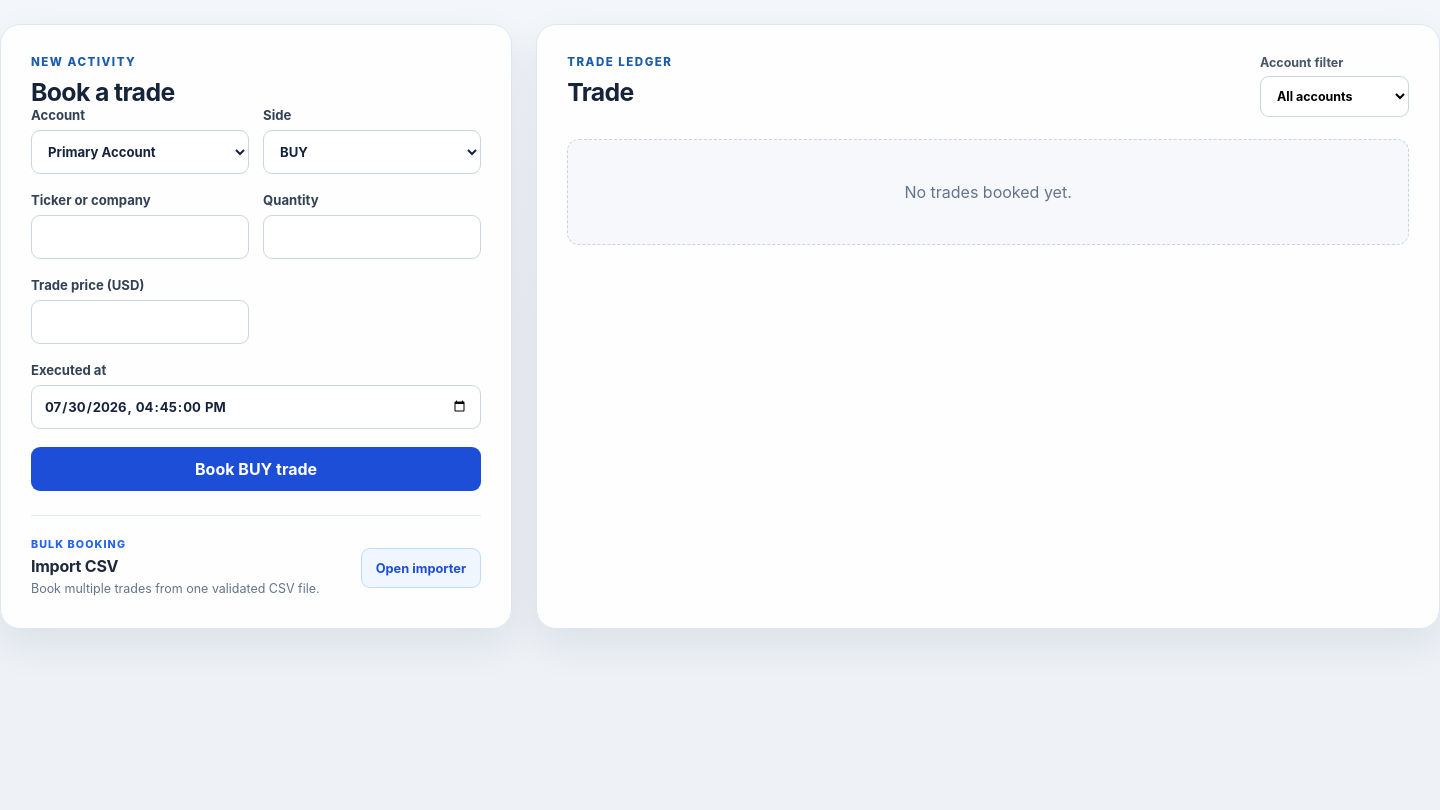
Test: multi-account activity › shows an oversell 409 next to quantity
Check: the text "No trades booked yet." is shown, box [567, 139, 1409, 245]
Select "SELL" in the dropdown labelled "Side" at (372, 152), box [263, 130, 481, 174]
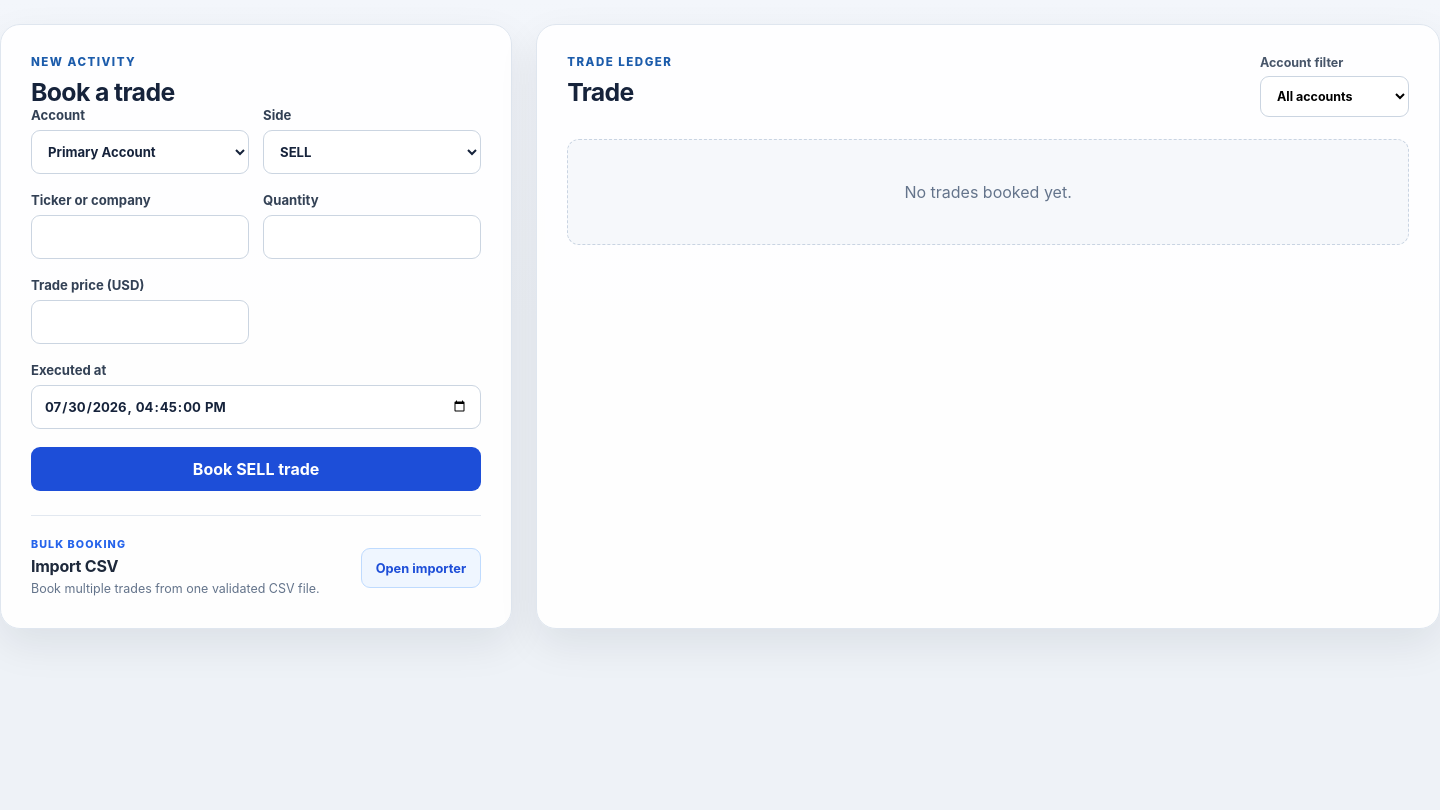
Type "aapl" into the dropdown labelled "Ticker or company" at (140, 237), box [31, 215, 249, 259]
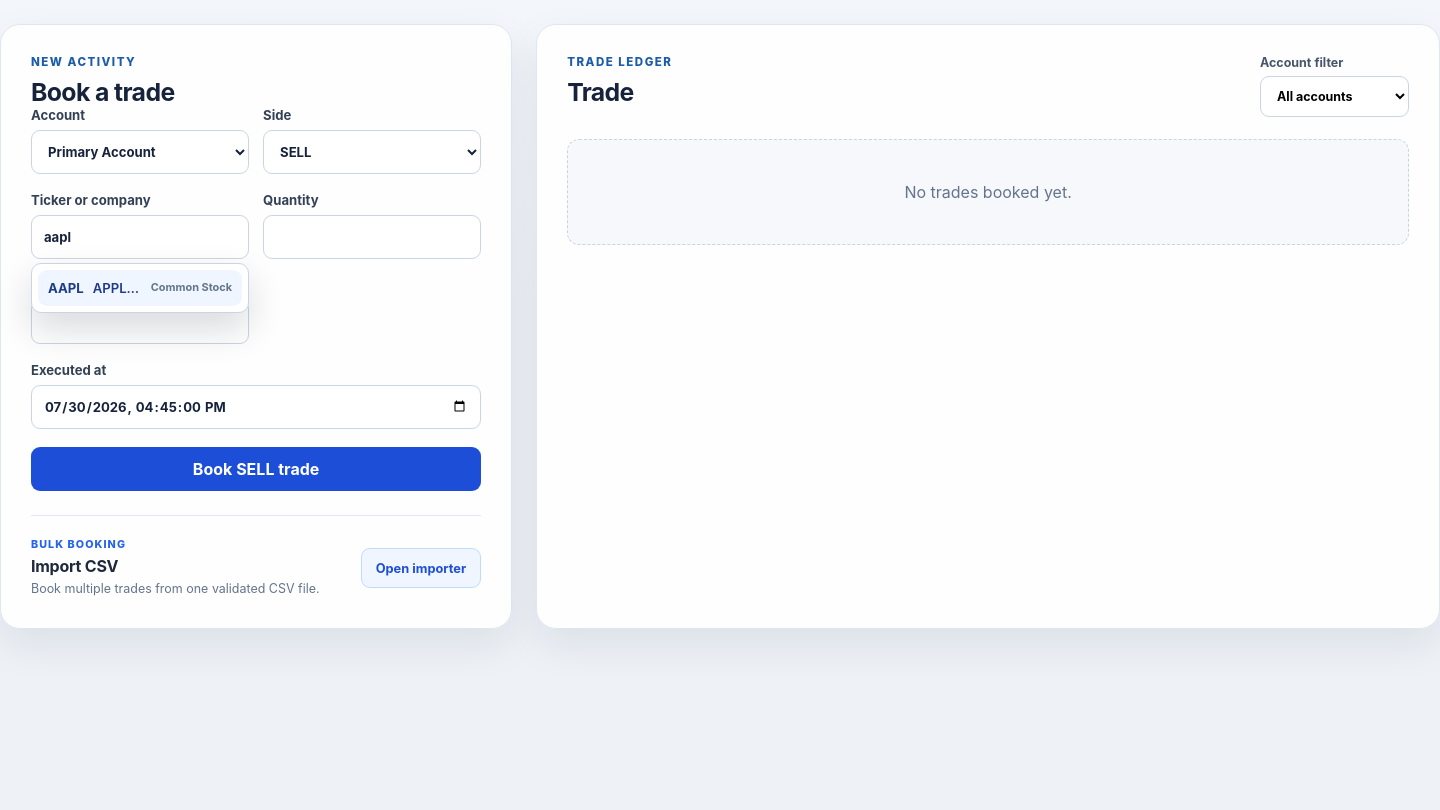
Click the option "AAPL APPLE INC Common Stock" at (140, 288), box [38, 270, 242, 306]
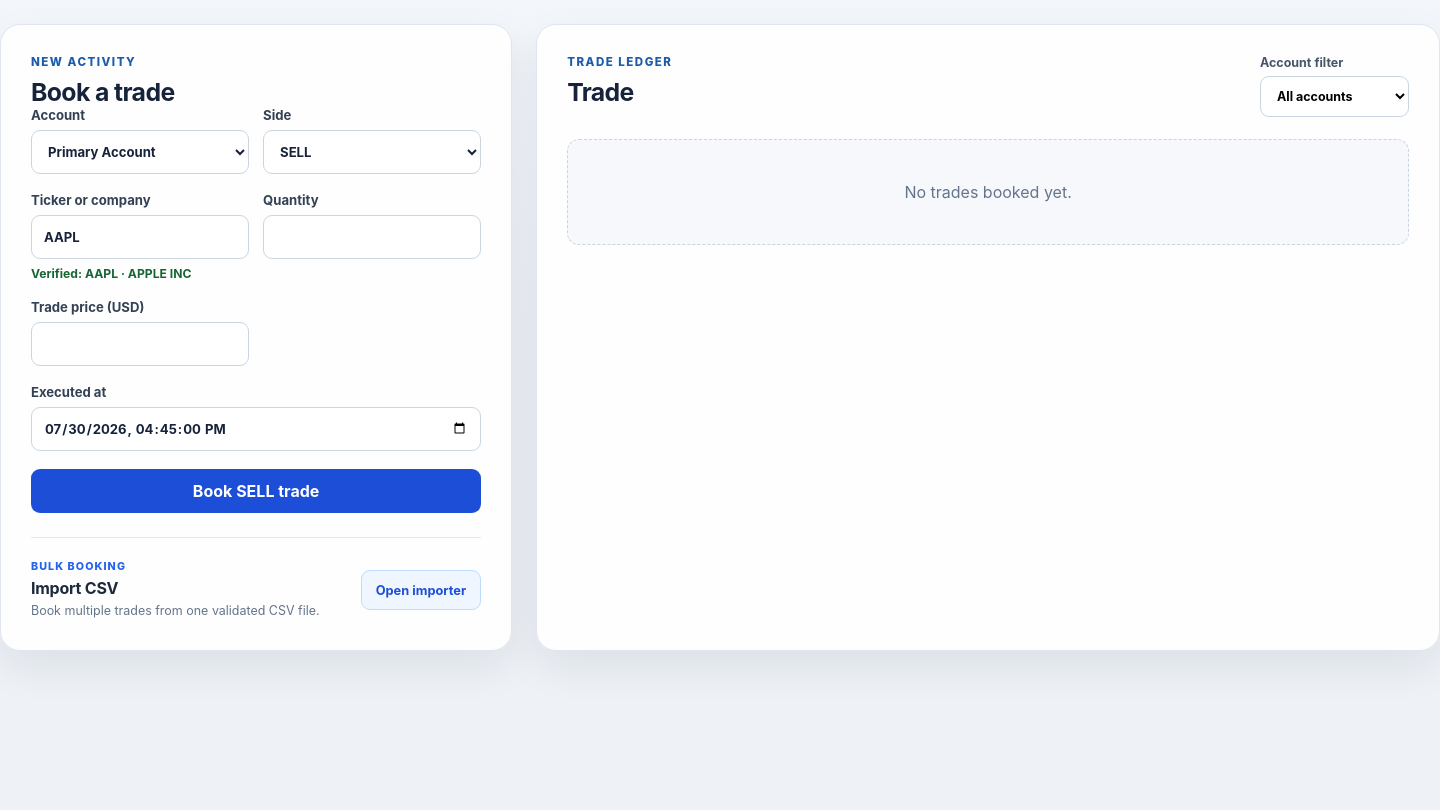
Type "10.5" into the number field labelled "Quantity" at (372, 237), box [263, 215, 481, 259]
Type "195.25" into the number field labelled "Trade price (USD)" at (140, 344), box [31, 322, 249, 366]
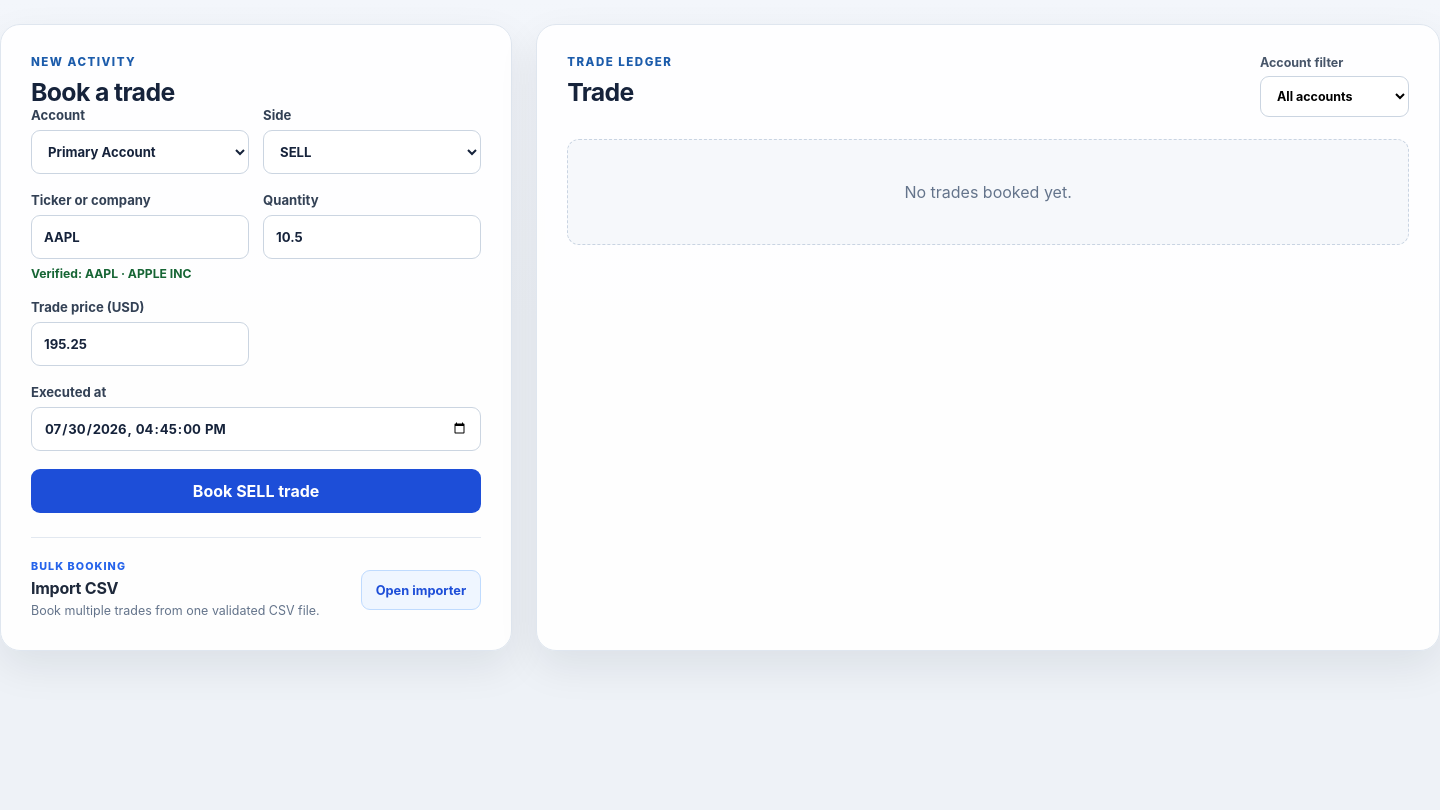
Replace the text in the field labelled "Executed at" with "2026-07-28T14:30" at (256, 429), box [31, 407, 481, 451]
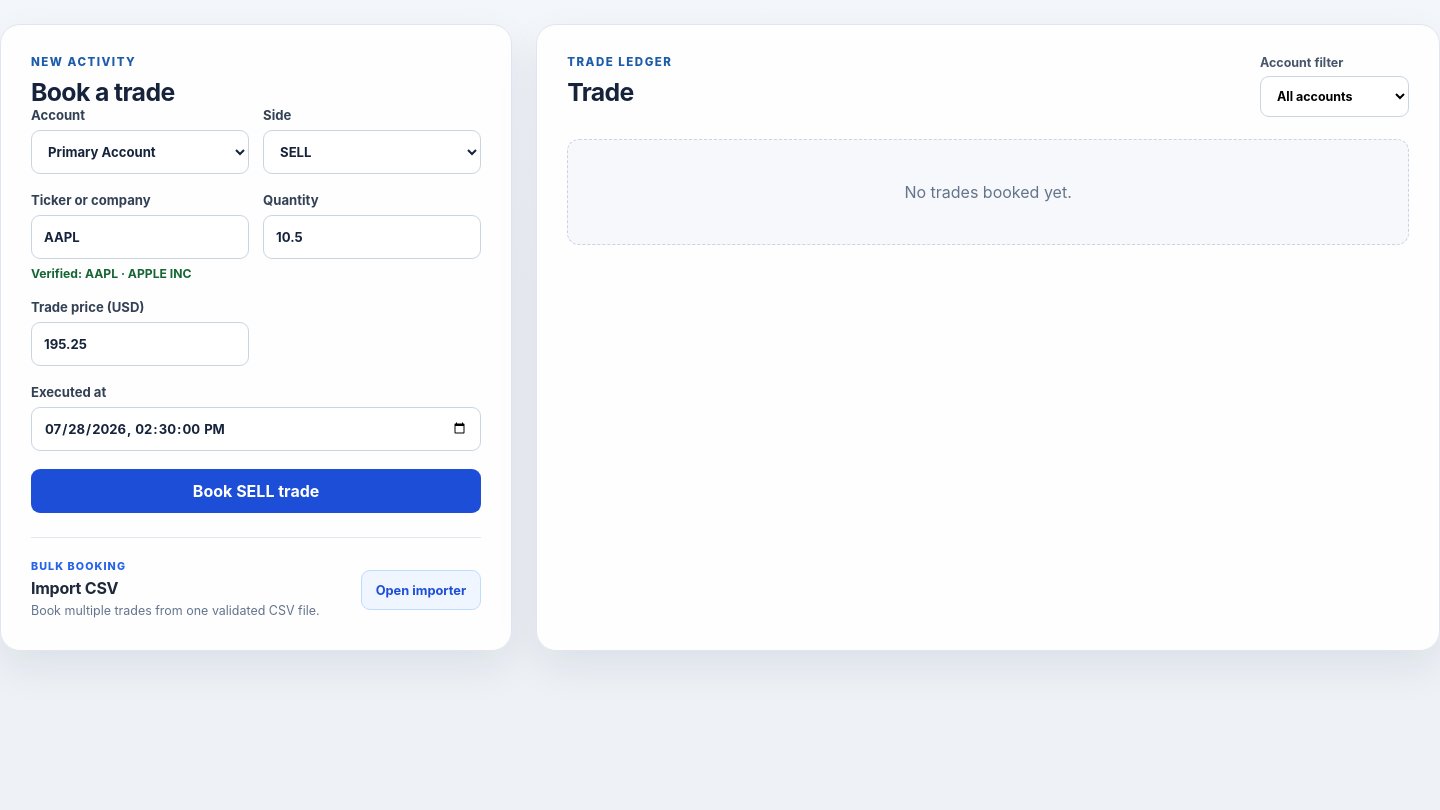
Click the button "Book SELL trade" at (256, 491), box [31, 469, 481, 513]
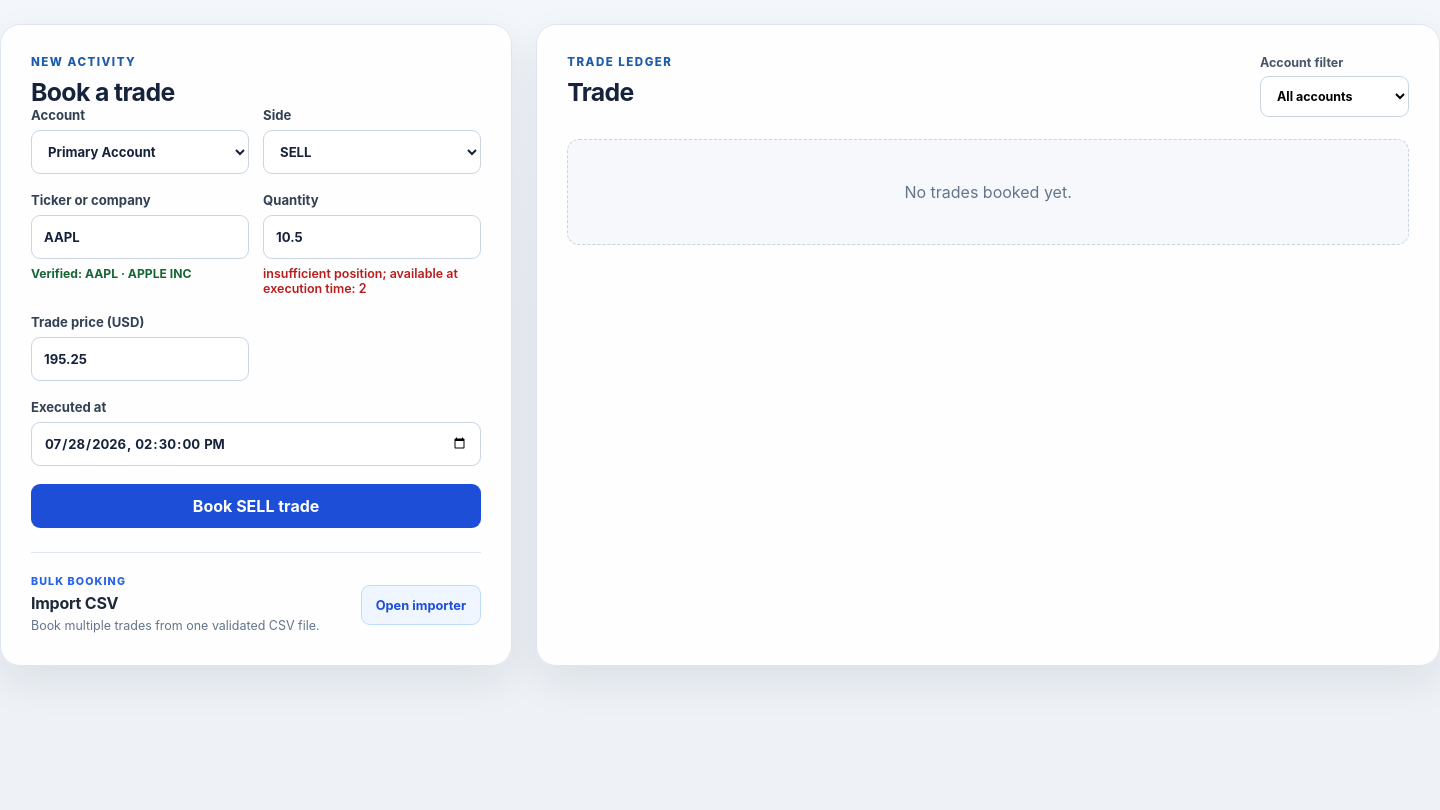
Check: the text "insufficient position; available at execution time: 2" is shown, box [263, 266, 481, 296]
